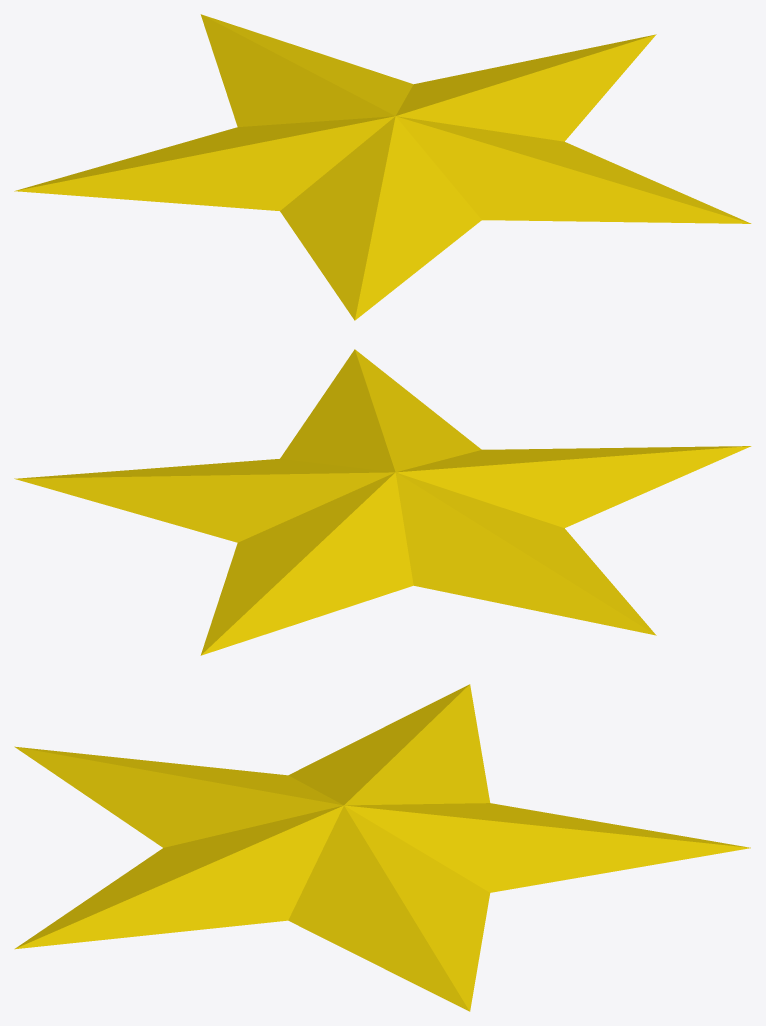
File: gold_star.glb
3 renders of one model, top to bottom at view 1: azimuth 30°, elevation 25°; view 2: azimuth 150°, elevation 25°; view 3: azimuth 270°, elevation 25°, orthographic. The views are drawn at different scales.
Visible parts, largest first — view 1: Gold_Star:Star_Star_0; view 2: Gold_Star:Star_Star_0; view 3: Gold_Star:Star_Star_0.
Boxes of the visible parts, x1=… form: Gold_Star:Star_Star_0: x1=14, y1=14, x2=751, y2=320; Gold_Star:Star_Star_0: x1=14, y1=349, x2=751, y2=655; Gold_Star:Star_Star_0: x1=14, y1=684, x2=750, y2=1011.
Size of the model in its own units: 0.1983 by 0.024 by 0.1885.
